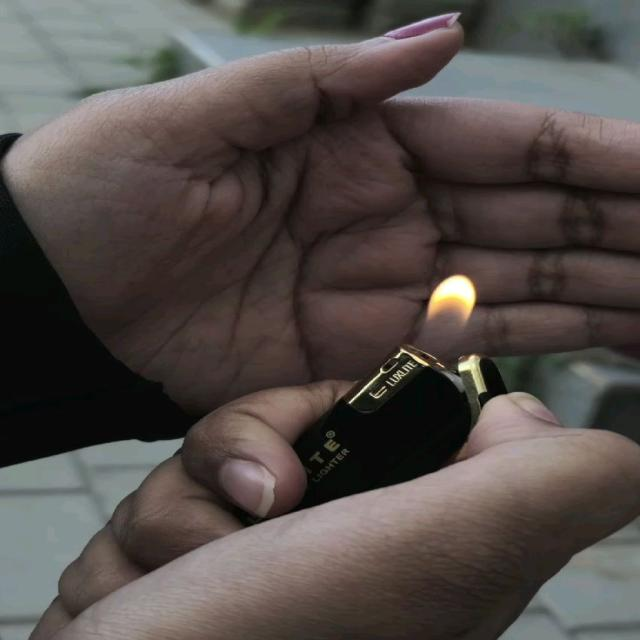fire: (413, 273, 476, 360)
